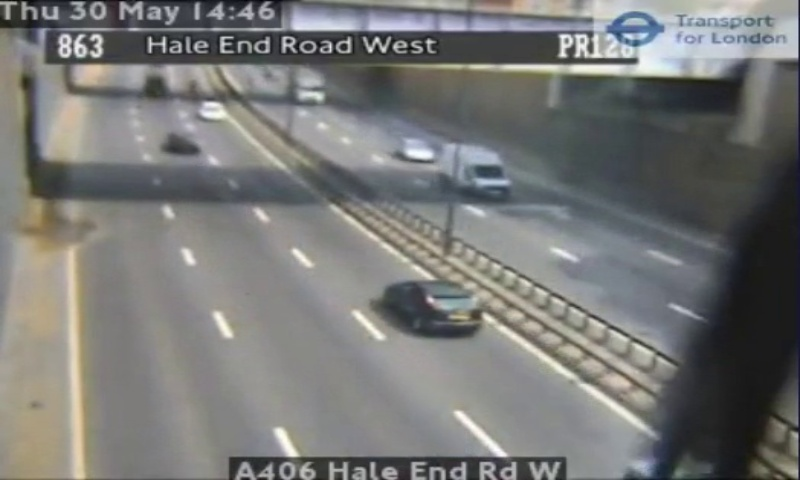car: (383, 280, 483, 336)
